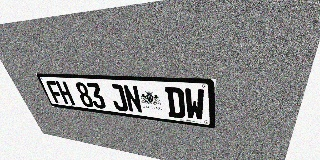3: (86, 83, 107, 109)
8: (74, 82, 95, 108)
D: (165, 87, 186, 119)
F: (45, 80, 65, 104)
H: (55, 81, 75, 105)
J: (108, 84, 129, 112)
N: (122, 85, 143, 114)
W: (184, 88, 205, 121)
